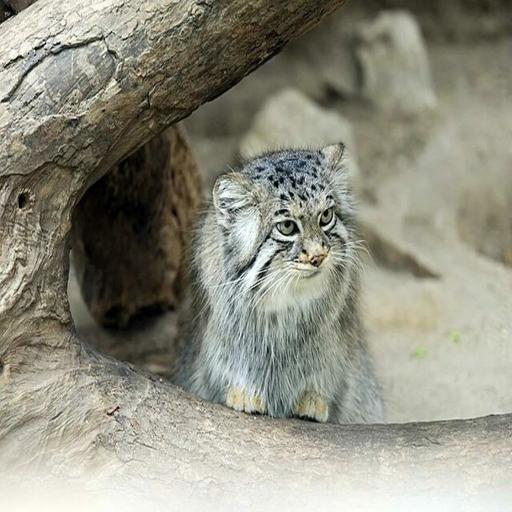manul: (175, 143, 383, 422)
